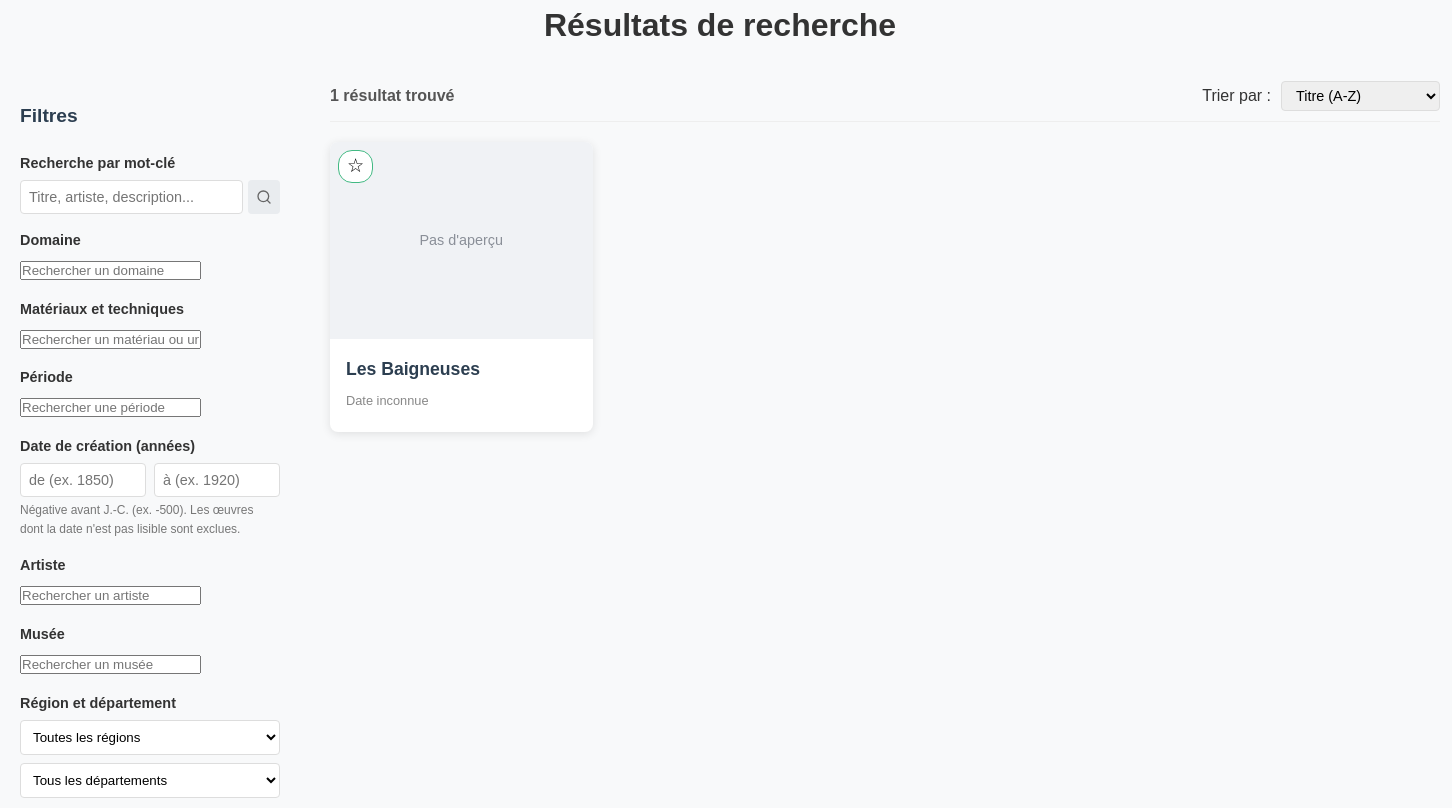
SearchView : filtres avancés › plage d'années de création › refuse un texte qui n'est pas une année
Type "vers 1850" into the field with test id "year-from" at (83, 480), box [20, 463, 146, 497]
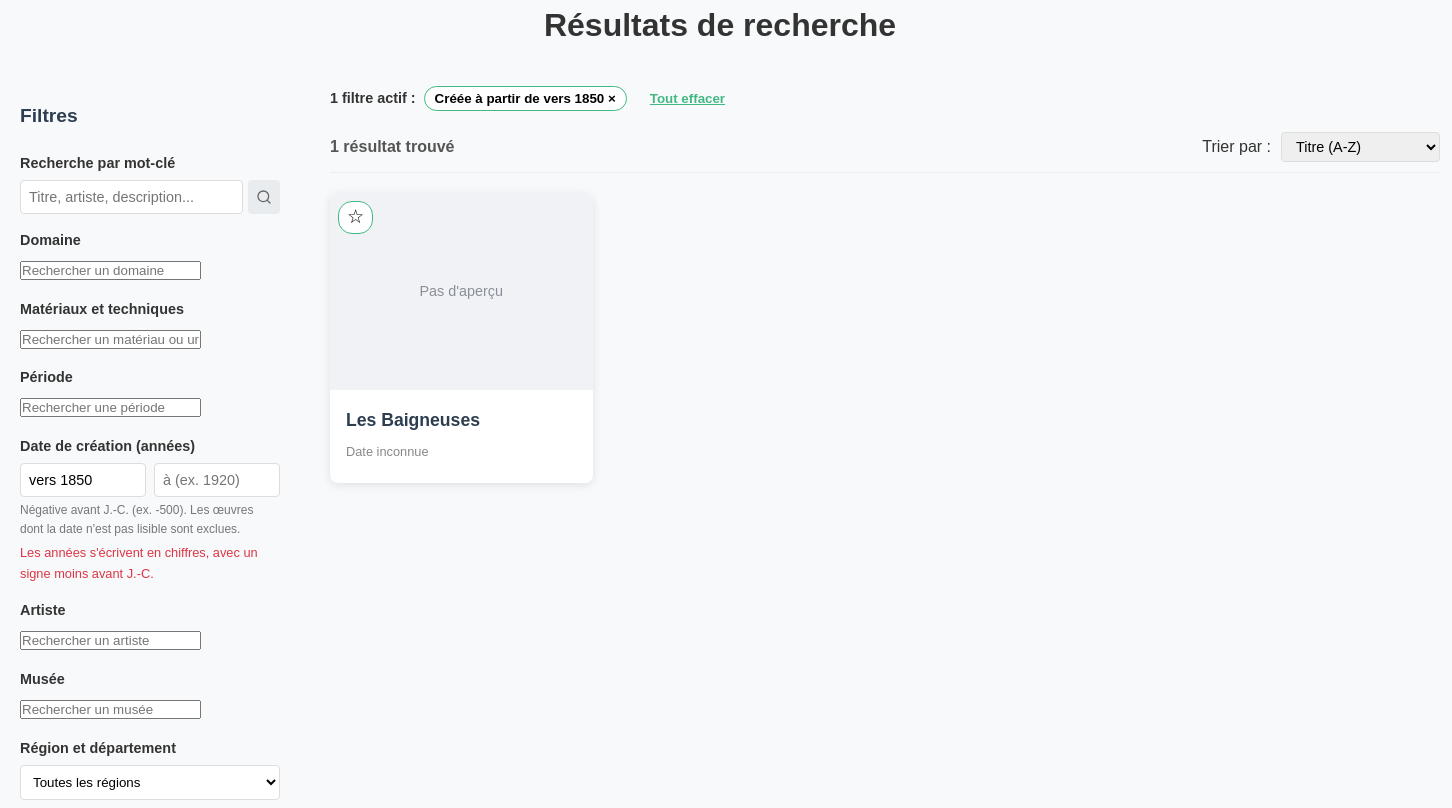
Expected: the message with test id "year-error" shows "en chiffres", [20, 545, 258, 581]
